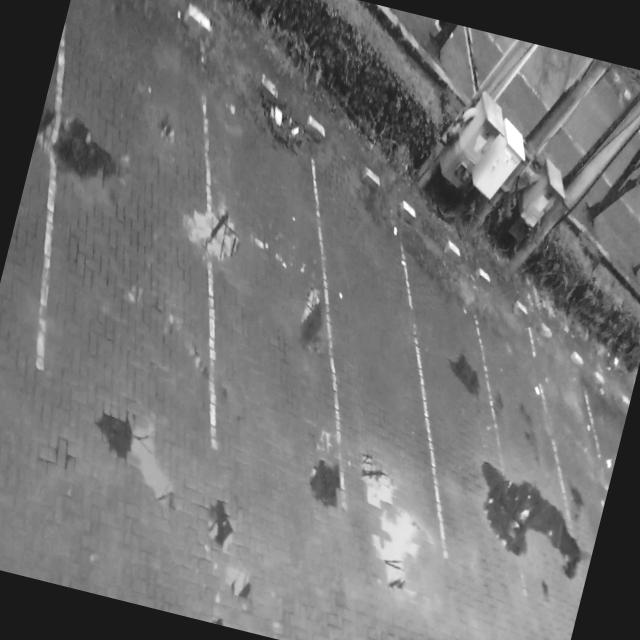free: (0, 0, 271, 441), (157, 74, 378, 479), (276, 166, 466, 525), (382, 248, 538, 566)
